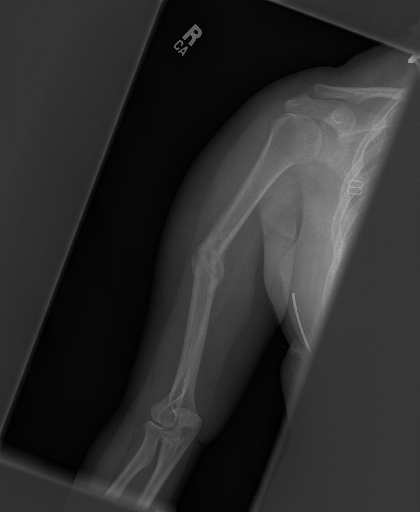fracture: (181, 215, 236, 318)
